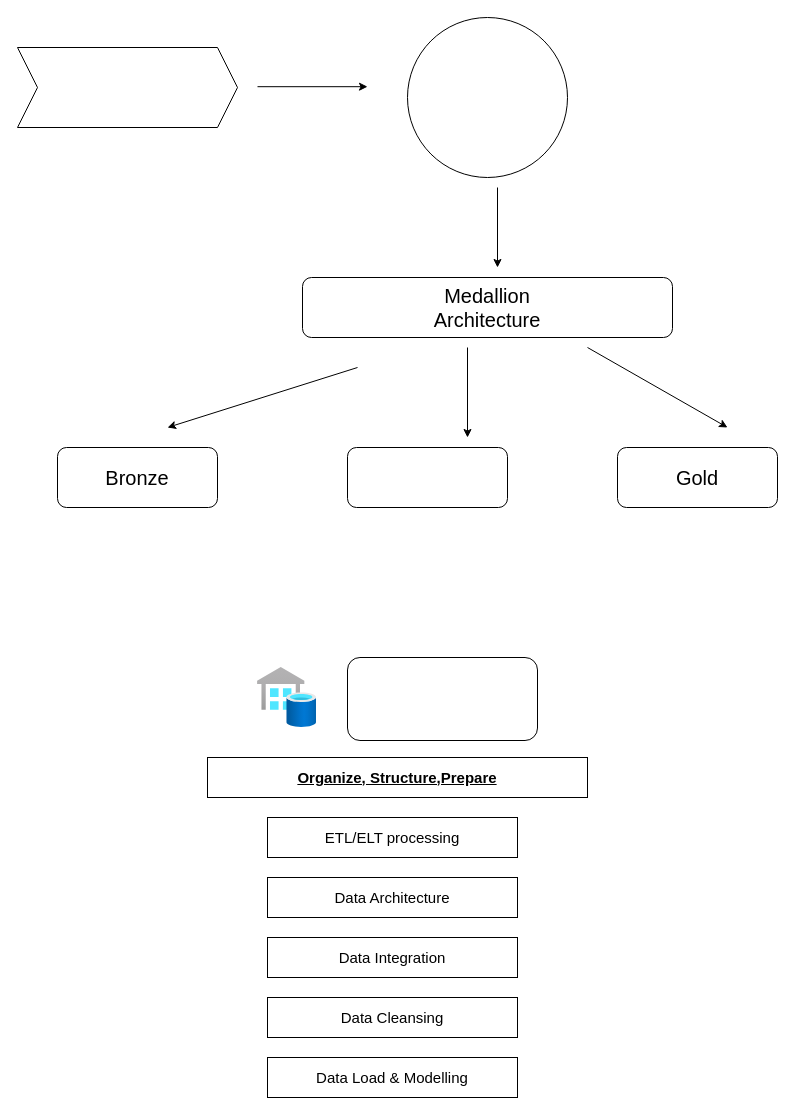
The diagram is 795 pixels wide and 1115 high, and some of its shapes have lost their labels. Here are the shapes that lost their labels. From the top down, the centre of each, then its label:
pixel 127 87: DATA ARCHITECTURES
pixel 487 97: DATA WAREHOUSE
pixel 427 477: Silver
pixel 442 698: DATA WAREHOUSING
